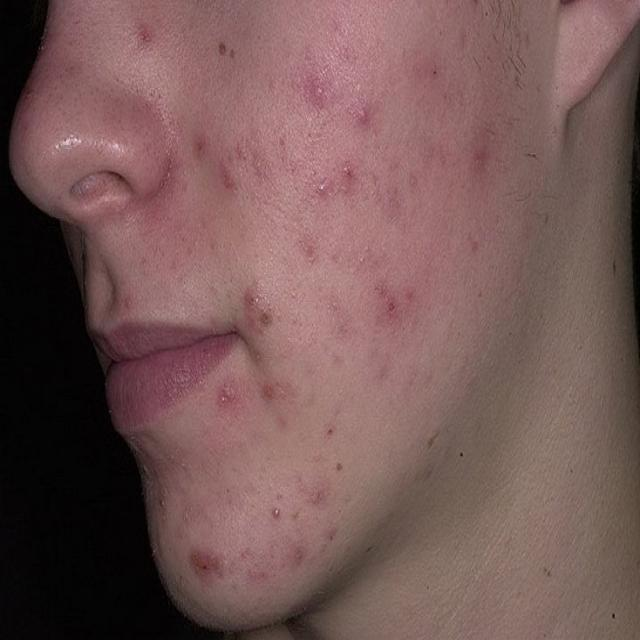Acne: (141, 18, 517, 383), (146, 446, 354, 592)
